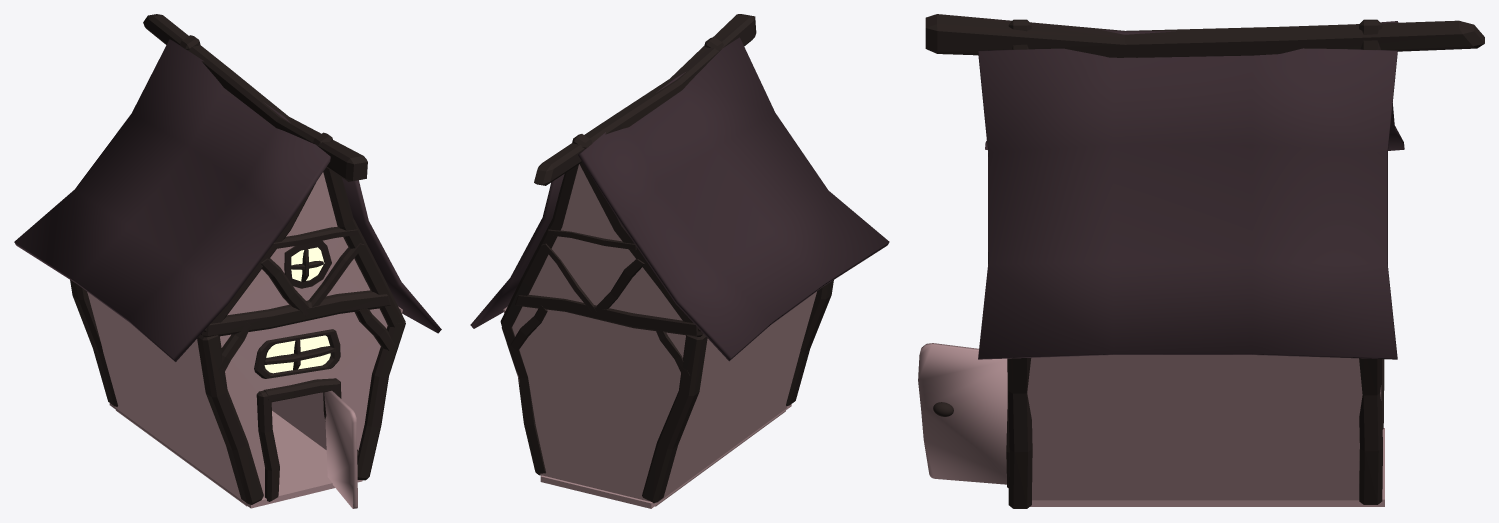
File: huisgoed.fbx
3 renders of one model, left to right at view 1: azimuth 30°, elevation 25°; view 2: azimuth 150°, elevation 25°; view 3: azimuth 270°, elevation 25°, orthographic. The views are drawn at different scales.
Visible parts, largest first — view 1: Plane.009; view 2: Plane.009; view 3: Plane.009.
Part boxes in pixels (<box>): Plane.009: <box>14,14,441,508</box>; Plane.009: <box>470,14,889,508</box>; Plane.009: <box>918,14,1484,508</box>.
Bounding box in the file's own units: 766 × 980 × 1074.
